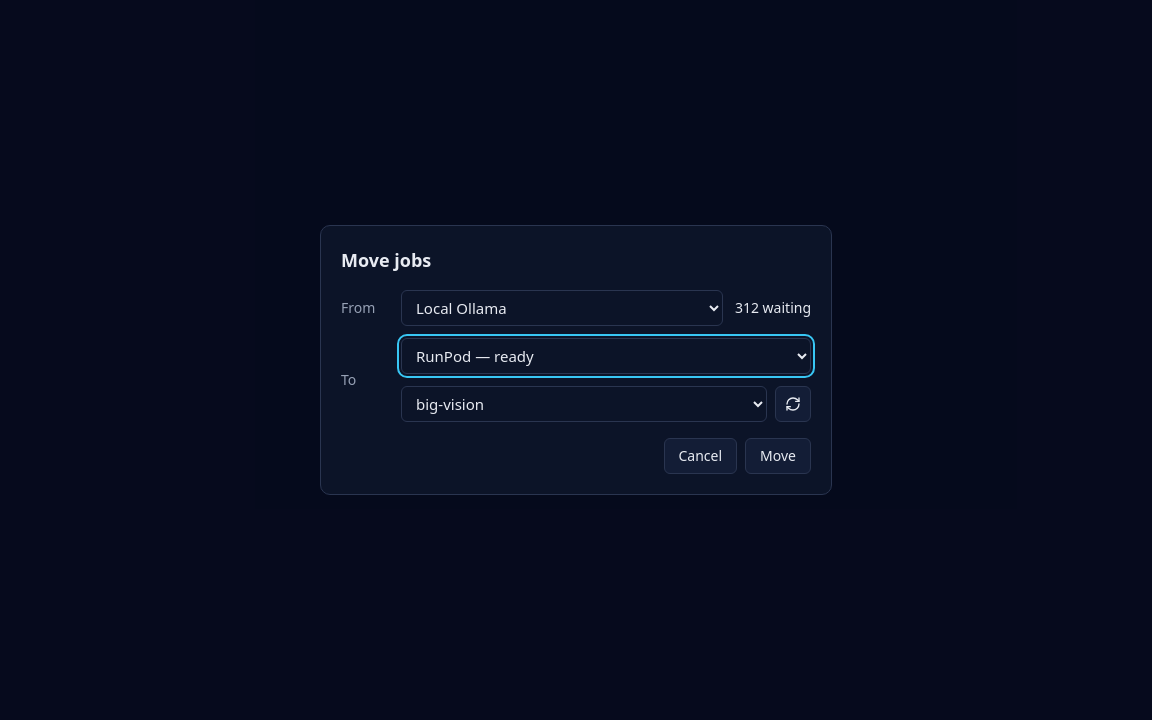
Test case: a refusal goes when another source is chosen
Step 1. Click the button "Move" → (778, 456), box [745, 438, 811, 474]
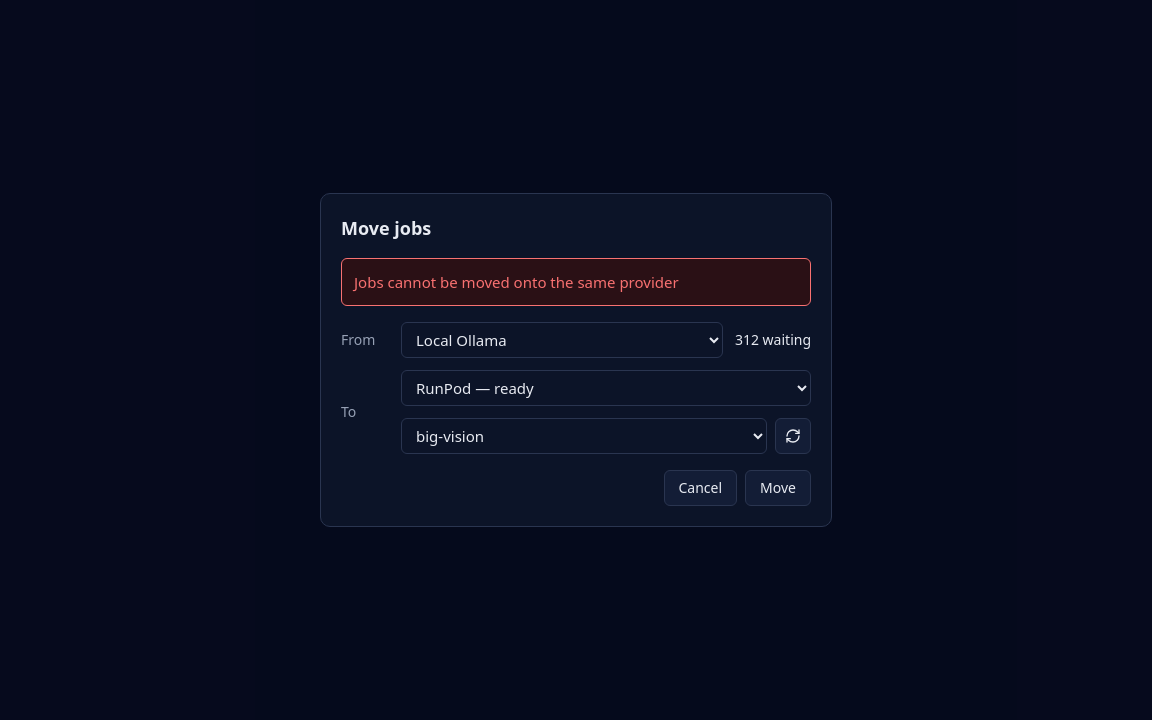
expect the message "Jobs cannot be moved onto the same provider" is shown: met, box [341, 258, 811, 306]
Step 2. Select "No provider" in the dropdown named "From" → (562, 340), box [401, 322, 723, 358]
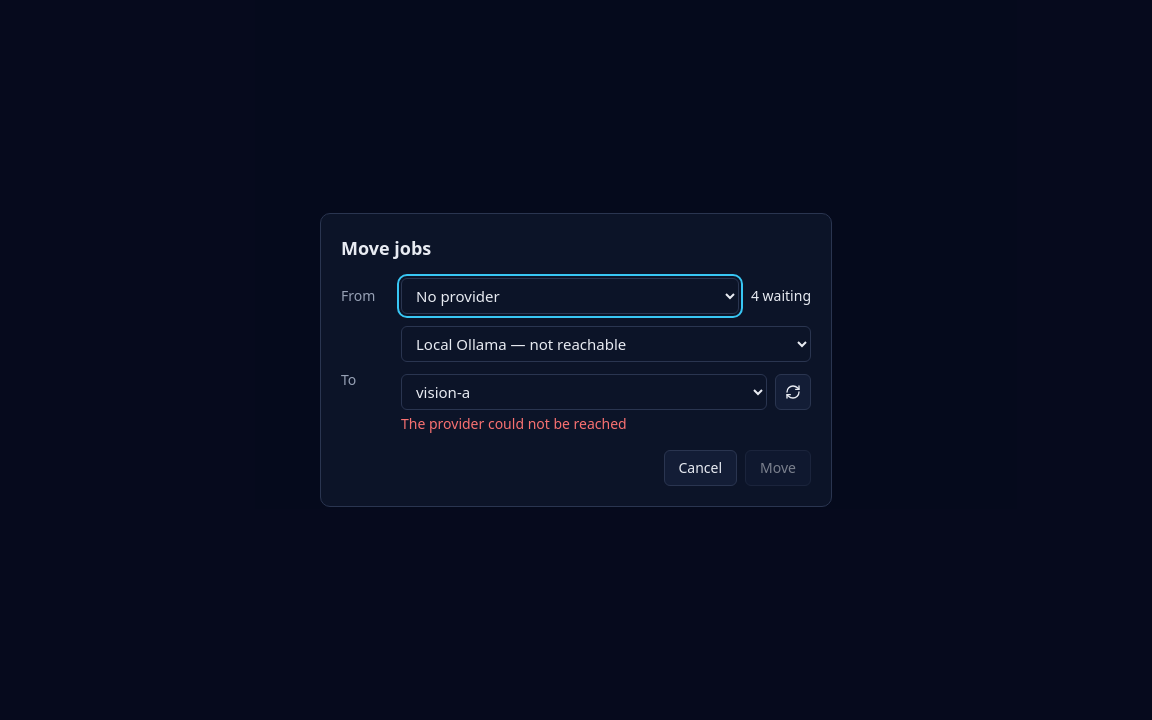
expect the message "Jobs cannot be moved onto the same provider" is gone: met
